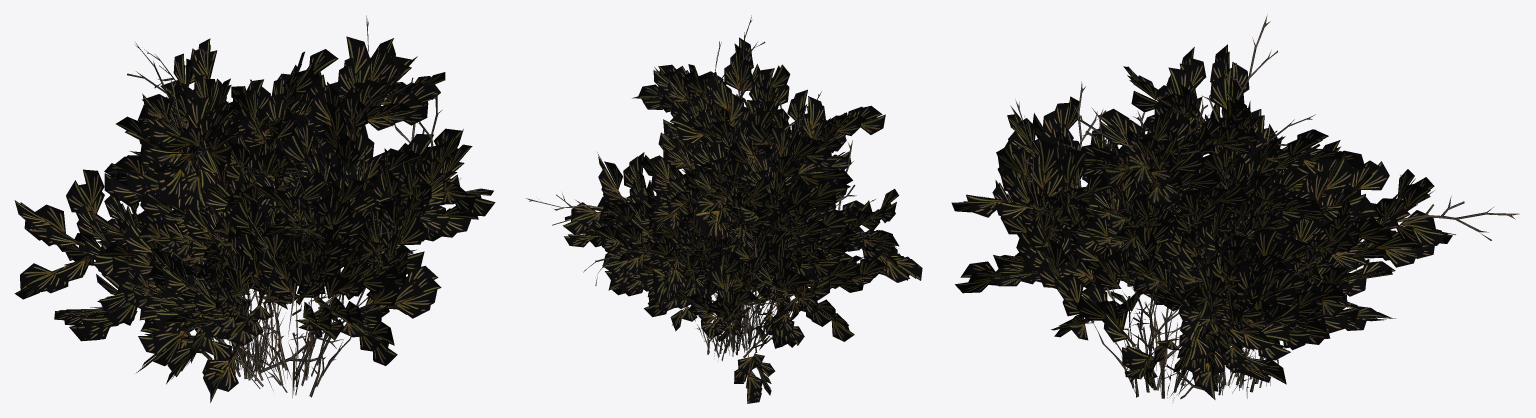
Rendered from ph_bush.glb.
3 renders of one model, left to right at view 1: azimuth 30°, elevation 25°; view 2: azimuth 150°, elevation 25°; view 3: azimuth 270°, elevation 25°, orthographic. The views are drawn at different scales.
Visible parts, largest first — view 1: piece_0, piece_1, piece_2, piece_3; view 2: piece_0, piece_1, piece_2, piece_3, piece_4; view 3: piece_0, piece_1, piece_3, piece_2, piece_4.
Boxes of the visible parts, <box> form: piece_0: <box>14,15,495,402</box>; piece_1: <box>54,42,438,378</box>; piece_2: <box>133,124,331,373</box>; piece_3: <box>169,93,303,381</box>; piece_0: <box>525,15,922,348</box>; piece_1: <box>592,96,856,403</box>; piece_2: <box>589,117,850,361</box>; piece_3: <box>641,133,831,347</box>; piece_4: <box>679,231,791,358</box>; piece_0: <box>951,67,1519,400</box>; piece_1: <box>1076,14,1395,399</box>; piece_3: <box>1120,146,1365,395</box>; piece_2: <box>1081,94,1395,398</box>; piece_4: <box>1181,230,1278,392</box>.
Bounding box in the file's own units: 0.69 × 0.5409 × 0.8433.
3 materials, 3 textured.
